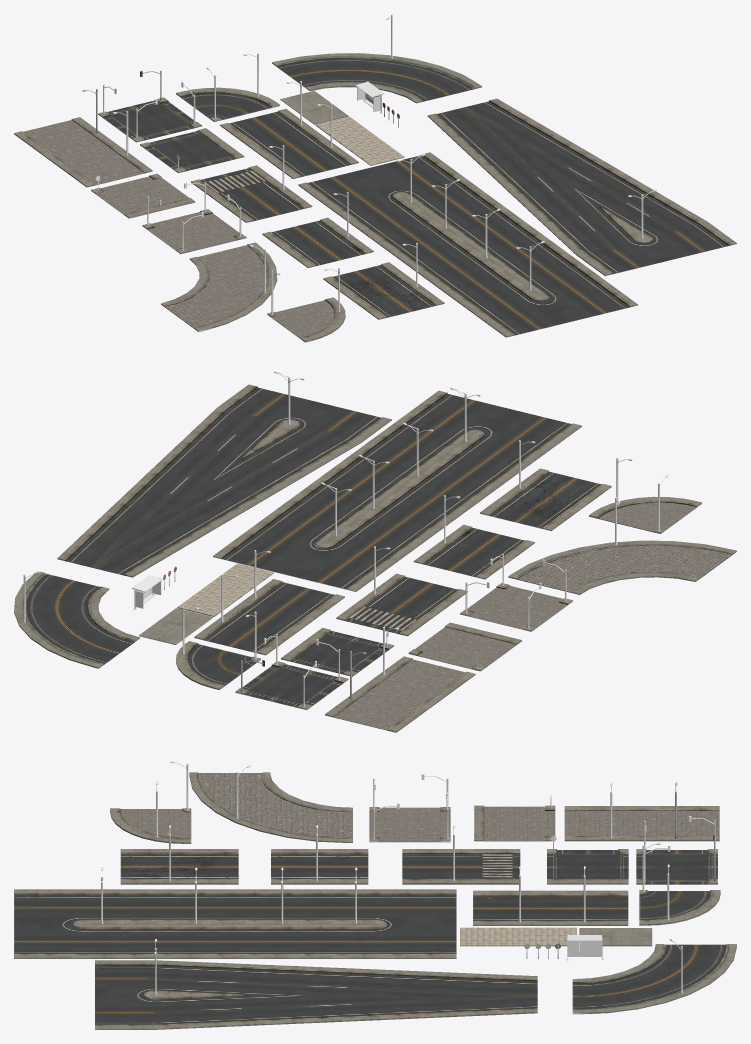
The model's file is roadkit.glb.
3 views of the same model, one above another, from view 1: azimuth 30°, elevation 25°; view 2: azimuth 150°, elevation 25°; view 3: azimuth 270°, elevation 25° (orthographic). The views are drawn at different scales.
Parts seen in each view (by area): view 1: _gltfNode_72_6, _gltfNode_86_4, _gltfNode_82_46, _gltfNode_24_56, _gltfNode_4_60, _gltfNode_66_68, _gltfNode_56_50, _gltfNode_50_62, _gltfNode_52_48, _gltfNode_44_66, _gltfNode_10_54, _gltfNode_14_52 (+5 smaller); view 2: _gltfNode_72_6, _gltfNode_86_4, _gltfNode_24_56, _gltfNode_82_46, _gltfNode_4_60, _gltfNode_66_68, _gltfNode_56_50, _gltfNode_50_62, _gltfNode_52_48, _gltfNode_10_54, _gltfNode_34_2, _gltfNode_14_52 (+5 smaller); view 3: _gltfNode_72_6, _gltfNode_86_4, _gltfNode_82_46, _gltfNode_24_56, _gltfNode_66_68, _gltfNode_4_60, _gltfNode_56_50, _gltfNode_50_62, _gltfNode_52_48, _gltfNode_10_54, _gltfNode_14_52, _gltfNode_44_66 (+6 smaller).
Boxes of the visible parts, left/top/right/bottom form: _gltfNode_72_6: left=298, top=152, right=637, bottom=337; _gltfNode_86_4: left=427, top=98, right=736, bottom=275; _gltfNode_82_46: left=272, top=53, right=482, bottom=103; _gltfNode_24_56: left=161, top=242, right=277, bottom=332; _gltfNode_4_60: left=14, top=117, right=152, bottom=187; _gltfNode_66_68: left=220, top=109, right=358, bottom=178; _gltfNode_56_50: left=323, top=262, right=444, bottom=319; _gltfNode_50_62: left=191, top=165, right=312, bottom=222; _gltfNode_52_48: left=262, top=217, right=373, bottom=267; _gltfNode_44_66: left=140, top=128, right=244, bottom=173; _gltfNode_10_54: left=91, top=173, right=195, bottom=218; _gltfNode_14_52: left=142, top=209, right=246, bottom=254; _gltfNode_72_6: left=213, top=390, right=581, bottom=591; _gltfNode_86_4: left=57, top=384, right=391, bottom=577; _gltfNode_24_56: left=508, top=540, right=736, bottom=594; _gltfNode_82_46: left=14, top=571, right=139, bottom=668; _gltfNode_4_60: left=325, top=656, right=475, bottom=732; _gltfNode_66_68: left=194, top=579, right=344, bottom=655; _gltfNode_56_50: left=480, top=468, right=611, bottom=530; _gltfNode_50_62: left=336, top=573, right=467, bottom=636; _gltfNode_52_48: left=413, top=524, right=534, bottom=579; _gltfNode_10_54: left=408, top=622, right=521, bottom=671; _gltfNode_34_2: left=235, top=661, right=348, bottom=709; _gltfNode_14_52: left=460, top=583, right=572, bottom=631; _gltfNode_72_6: left=14, top=889, right=456, bottom=958; _gltfNode_86_4: left=95, top=960, right=537, bottom=1029; _gltfNode_82_46: left=572, top=944, right=736, bottom=1014; _gltfNode_24_56: left=189, top=772, right=352, bottom=842; _gltfNode_66_68: left=473, top=890, right=628, bottom=925; _gltfNode_4_60: left=564, top=806, right=719, bottom=841; _gltfNode_56_50: left=120, top=849, right=238, bottom=884; _gltfNode_50_62: left=402, top=849, right=520, bottom=884; _gltfNode_52_48: left=271, top=849, right=368, bottom=884; _gltfNode_10_54: left=474, top=805, right=555, bottom=841; _gltfNode_14_52: left=369, top=807, right=450, bottom=842; _gltfNode_44_66: left=547, top=849, right=628, bottom=884.
Size of the model in its own units: 87.68 by 7.96 by 104.
2 materials, 1 textured.
